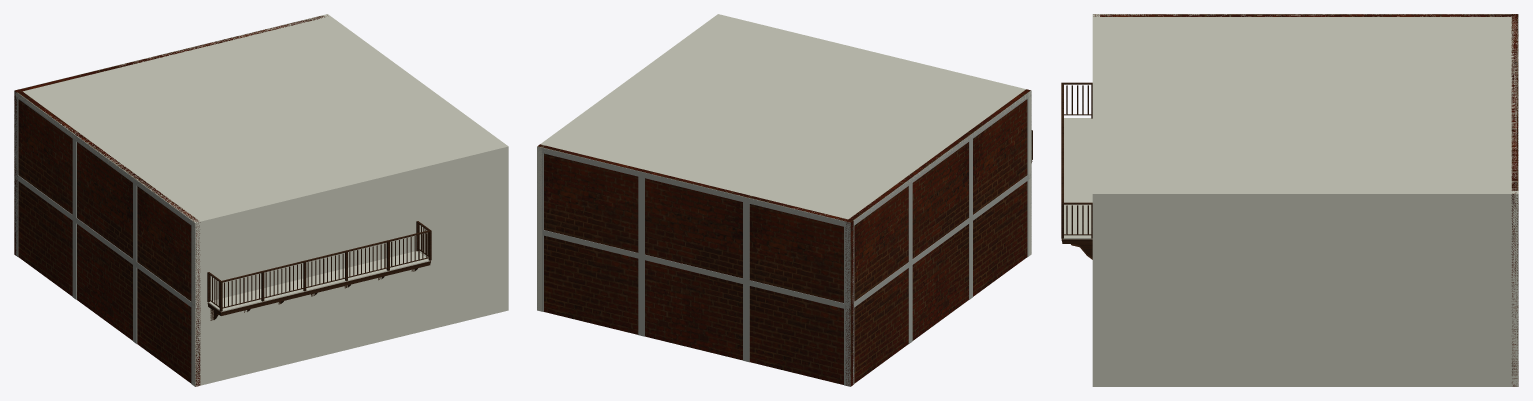
File: building.glb
3 views of the same model, side by side, from view 1: azimuth 30°, elevation 25°; view 2: azimuth 150°, elevation 25°; view 3: azimuth 270°, elevation 25° (orthographic). The views are drawn at different scales.
Parts seen in each view (by area): view 1: roof/house:0/roof_slab#0001, house:0/edge0/z0/house:0/edge0/z0/wall_0_0, house:0/edge3/z0/house:0/edge3/z0/wall_0_0, balcony/sample/balcony_platform#0001, house:0/edge2/z0/house:0/edge2/z0/wall_0_0, house:0/edge3/z0/house:0/edge3/z0/beam_0_0, house:0/edge3/z0/house:0/edge3/z0/beam_1_0, house:0/edge1/z0/house:0/edge1/z0/wall_0_0, balcony/sample/balcony_fascia#0001, balcony/sample/balcony_handrail#0001; view 2: roof/house:0/roof_slab#0001, house:0/edge2/z0/house:0/edge2/z0/wall_0_0, house:0/edge3/z0/house:0/edge3/z0/wall_0_0, house:0/edge1/z0/house:0/edge1/z0/wall_0_0, house:0/edge2/z0/house:0/edge2/z0/beam_1_0, house:0/edge2/z0/house:0/edge2/z0/beam_0_0, house:0/edge0/z0/house:0/edge0/z0/wall_0_0, house:0/edge3/z0/house:0/edge3/z0/beam_0_0, house:0/edge3/z0/house:0/edge3/z0/beam_1_0, house:0/edge2/z0/house:0/edge2/z0/column_2_0, house:0/edge2/z0/house:0/edge2/z0/column_2_1, house:0/edge2/z0/house:0/edge2/z0/column_3_0 (+3 smaller); view 3: house:0/edge1/z0/house:0/edge1/z0/wall_0_0, roof/house:0/roof_slab#0001, balcony/sample/balcony_platform#0001, house:0/edge0/z0/house:0/edge0/z0/wall_0_0, house:0/edge2/z0/house:0/edge2/z0/wall_0_0, house:0/edge3/z0/house:0/edge3/z0/wall_0_0, balcony/sample/balcony_handrail#0001.
Boxes of the visible parts, box(x1,y1,x2,y2) form: roof/house:0/roof_slab#0001: box(15, 14, 506, 225); house:0/edge0/z0/house:0/edge0/z0/wall_0_0: box(192, 144, 508, 386); house:0/edge3/z0/house:0/edge3/z0/wall_0_0: box(17, 89, 200, 386); balcony/sample/balcony_platform#0001: box(208, 251, 429, 312); house:0/edge2/z0/house:0/edge2/z0/wall_0_0: box(14, 15, 327, 255); house:0/edge3/z0/house:0/edge3/z0/beam_0_0: box(14, 173, 195, 309); house:0/edge3/z0/house:0/edge3/z0/beam_1_0: box(14, 92, 195, 227); house:0/edge1/z0/house:0/edge1/z0/wall_0_0: box(323, 14, 508, 311); balcony/sample/balcony_fascia#0001: box(207, 261, 430, 315); balcony/sample/balcony_handrail#0001: box(207, 221, 431, 282); roof/house:0/roof_slab#0001: box(540, 14, 1031, 223); house:0/edge2/z0/house:0/edge2/z0/wall_0_0: box(538, 144, 853, 386); house:0/edge3/z0/house:0/edge3/z0/wall_0_0: box(845, 89, 1030, 385); house:0/edge1/z0/house:0/edge1/z0/wall_0_0: box(537, 15, 722, 311); house:0/edge2/z0/house:0/edge2/z0/beam_1_0: box(538, 147, 850, 228); house:0/edge2/z0/house:0/edge2/z0/beam_0_0: box(542, 230, 850, 309); house:0/edge0/z0/house:0/edge0/z0/wall_0_0: box(717, 14, 1031, 256); house:0/edge3/z0/house:0/edge3/z0/beam_0_0: box(850, 172, 1031, 309); house:0/edge3/z0/house:0/edge3/z0/beam_1_0: box(850, 90, 1031, 227); house:0/edge2/z0/house:0/edge2/z0/column_2_0: box(638, 176, 644, 254); house:0/edge2/z0/house:0/edge2/z0/column_2_1: box(638, 258, 644, 336); house:0/edge2/z0/house:0/edge2/z0/column_3_0: box(743, 202, 749, 280); house:0/edge1/z0/house:0/edge1/z0/wall_0_0: box(1092, 191, 1518, 386); roof/house:0/roof_slab#0001: box(1092, 14, 1518, 198); balcony/sample/balcony_platform#0001: box(1063, 118, 1092, 239); house:0/edge0/z0/house:0/edge0/z0/wall_0_0: box(1092, 14, 1099, 386); house:0/edge2/z0/house:0/edge2/z0/wall_0_0: box(1511, 14, 1518, 386); house:0/edge3/z0/house:0/edge3/z0/wall_0_0: box(1093, 14, 1517, 16); balcony/sample/balcony_handrail#0001: box(1061, 82, 1092, 204).
Bounding box in the file's own units: 12 × 6 × 12.89.
4 materials, 2 textured.
